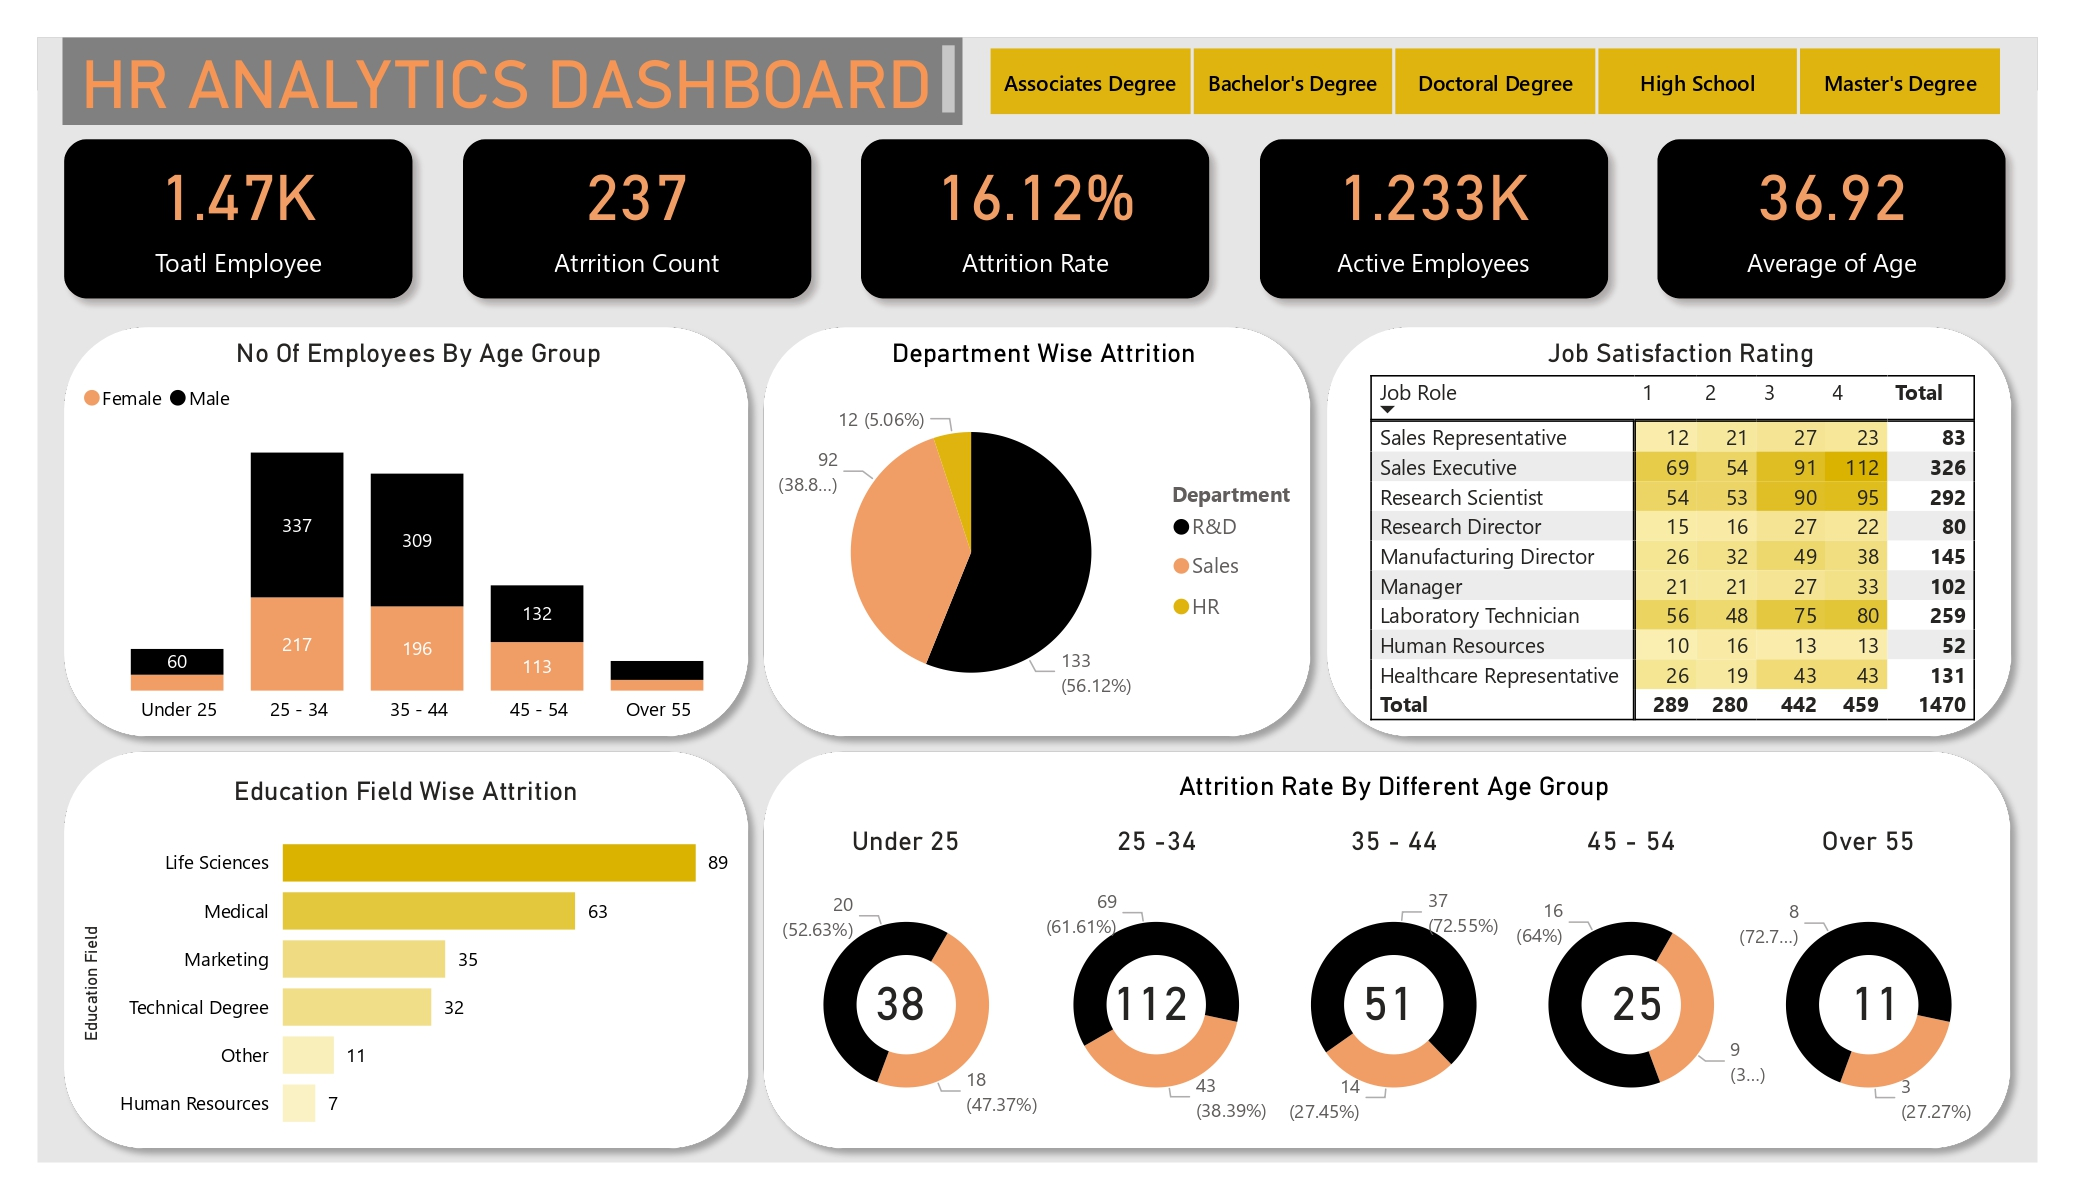

What the dashboard file says about the page in this screenshot:
{"tool":"powerbi","page":{"name":"Home","canvas":[1280,720],"ordinal":0},"visuals":[{"type":"group","id":"g1","title":"Group 1","box":[8,176,1264,544],"z":0},{"type":"shape","box":[456,176,368,280],"z":500,"group":"g1"},{"type":"cardVisual","fields":{"Data":["Sum(HR data.Employee Count)","Sum(HR data.Attrition Count)","HR data.Attrition Rate","HR data.Active Employees","Avg(HR data.Age)"]},"box":[0,48,1280,136],"z":1000},{"type":"shape","box":[8,176,456,280],"z":1000,"group":"g1"},{"type":"columnChart","title":"No Of Employees By Age Group","fields":{"Category":["HR data.CF_age band"],"Y":["Sum(HR data.Employee Count)"],"Series":["HR data.Gender"]},"box":[24,192,440,256],"z":2000},{"type":"shape","title":"Job Satisfaction Ratings","box":[816,176,456,280],"z":3000,"group":"g1"},{"type":"pieChart","title":"Department Wise Attrition","fields":{"Category":["HR data.Department"],"Y":["Sum(HR data.Attrition Count)"]},"box":[464,192,360,256],"z":3000},{"type":"pivotTable","title":"Job Satisfaction Rating","fields":{"Rows":["HR data.Job Role"],"Columns":["HR data.Job Satisfaction"],"Values":["Sum(HR data.Employee Count)"]},"box":[848,192,408,256],"z":4000},{"type":"shape","box":[8,448,456,272],"z":4000,"group":"g1"},{"type":"shape","box":[456,448,816,272],"z":5000,"group":"g1"},{"type":"barChart","title":"Education Field Wise Attrition","fields":{"Y":["Sum(HR data.Attrition Count)"],"Category":["HR data.Education Field"]},"box":[24,472,424,240],"z":5000},{"type":"donutChart","title":"35 - 44","fields":{"Category":["HR data.Gender"],"Y":["Sum(HR data.Attrition Count)"],"Series":["HR data.CF_age band"]},"box":[776,503.9,184,216],"z":8000},{"type":"donutChart","title":" Over 55","fields":{"Category":["HR data.Gender"],"Y":["Sum(HR data.Attrition Count)"],"Series":["HR data.CF_age band"]},"box":[1080,504,184,216],"z":9000},{"type":"textbox","box":[664,464,408,32],"z":11000},{"type":"slicer","fields":{"Values":["HR data.Education"]},"box":[584,0,696,56],"z":12000},{"type":"textbox","box":[16,0,576,56],"z":13000},{"type":"card","fields":{"Values":["Sum(HR data.Attrition Count)"]},"box":[528,592,48,48],"z":14000},{"type":"card","fields":{"Values":["Sum(HR data.Attrition Count)"]},"box":[672,592,80,48],"z":15000},{"type":"donutChart","title":"45 - 54","fields":{"Category":["HR data.Gender"],"Y":["Sum(HR data.Attrition Count)"],"Series":["HR data.CF_age band"]},"box":[928,503.9,184,216],"z":15500},{"type":"card","fields":{"Values":["Sum(HR data.Attrition Count)"]},"box":[832,592,64,48],"z":16000},{"type":"card","fields":{"Values":["Sum(HR data.Attrition Count)"]},"box":[992,592,64,48],"z":17000},{"type":"card","fields":{"Values":["Sum(HR data.Attrition Count)"]},"box":[1136,592,80,48],"z":18000},{"type":"donutChart","title":"25 -34","fields":{"Category":["HR data.Gender"],"Y":["Sum(HR data.Attrition Count)"],"Series":["HR data.CF_age band"]},"box":[624,503.9,184,216],"z":20000},{"type":"donutChart","title":"Under 25","fields":{"Category":["HR data.Gender"],"Y":["Sum(HR data.Attrition Count)"],"Series":["HR data.CF_age band"]},"box":[464,503.9,184,216],"z":20500}]}

Visuals, with their boxes on the page's 1280x720 design canvas (x1, y1, x2, y2). These are canvas units, not pixel positions in the 2075x1200 screenshot, which may show the page scaled, cropped or inside an application window:
"Group 1" group: <bbox>8, 176, 1272, 720</bbox>
shape: <bbox>456, 176, 824, 456</bbox>
cardVisual - Sum(HR data.Employee Count) x Sum(HR data.Attrition Count): <bbox>0, 48, 1280, 184</bbox>
shape: <bbox>8, 176, 464, 456</bbox>
"No Of Employees By Age Group" columnChart: <bbox>24, 192, 464, 448</bbox>
"Job Satisfaction Ratings" shape: <bbox>816, 176, 1272, 456</bbox>
"Department Wise Attrition" pieChart: <bbox>464, 192, 824, 448</bbox>
"Job Satisfaction Rating" pivotTable: <bbox>848, 192, 1256, 448</bbox>
shape: <bbox>8, 448, 464, 720</bbox>
shape: <bbox>456, 448, 1272, 720</bbox>
"Education Field Wise Attrition" barChart: <bbox>24, 472, 448, 712</bbox>
"35 - 44" donutChart: <bbox>776, 504, 960, 720</bbox>
" Over 55" donutChart: <bbox>1080, 504, 1264, 720</bbox>
textbox: <bbox>664, 464, 1072, 496</bbox>
slicer - HR data.Education: <bbox>584, 0, 1280, 56</bbox>
textbox: <bbox>16, 0, 592, 56</bbox>
card - Sum(HR data.Attrition Count): <bbox>528, 592, 576, 640</bbox>
card - Sum(HR data.Attrition Count): <bbox>672, 592, 752, 640</bbox>
"45 - 54" donutChart: <bbox>928, 504, 1112, 720</bbox>
card - Sum(HR data.Attrition Count): <bbox>832, 592, 896, 640</bbox>
card - Sum(HR data.Attrition Count): <bbox>992, 592, 1056, 640</bbox>
card - Sum(HR data.Attrition Count): <bbox>1136, 592, 1216, 640</bbox>
"25 -34" donutChart: <bbox>624, 504, 808, 720</bbox>
"Under 25" donutChart: <bbox>464, 504, 648, 720</bbox>
